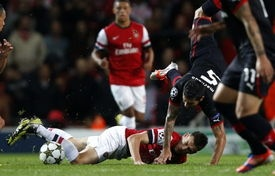falling: (152, 20, 235, 154)
